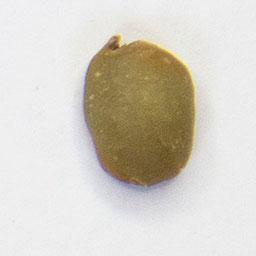defect: (79, 31, 200, 191)
